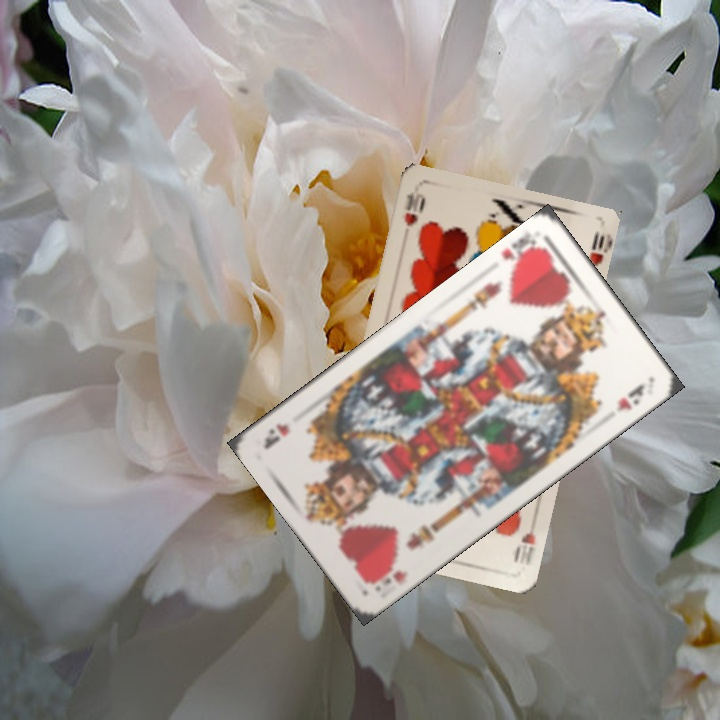H10: (510, 511, 540, 568), (400, 186, 428, 229)
HK: (497, 228, 546, 275), (364, 556, 411, 595)
